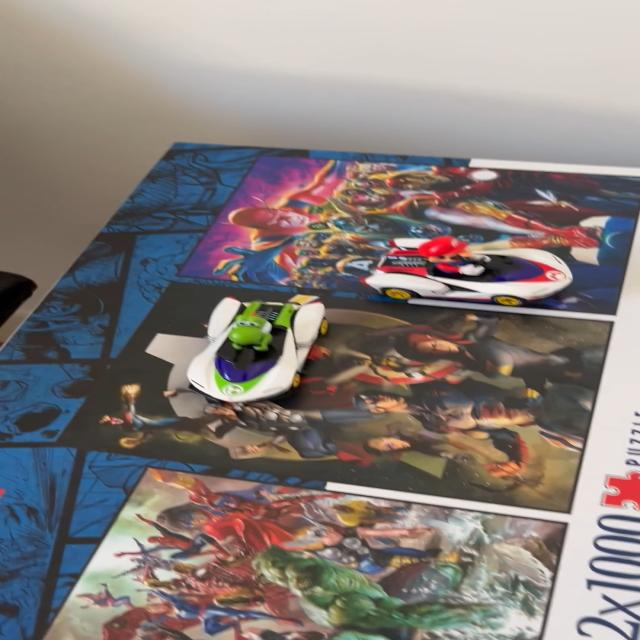mario: (357, 235, 596, 315)
yoshi: (158, 289, 339, 415)
